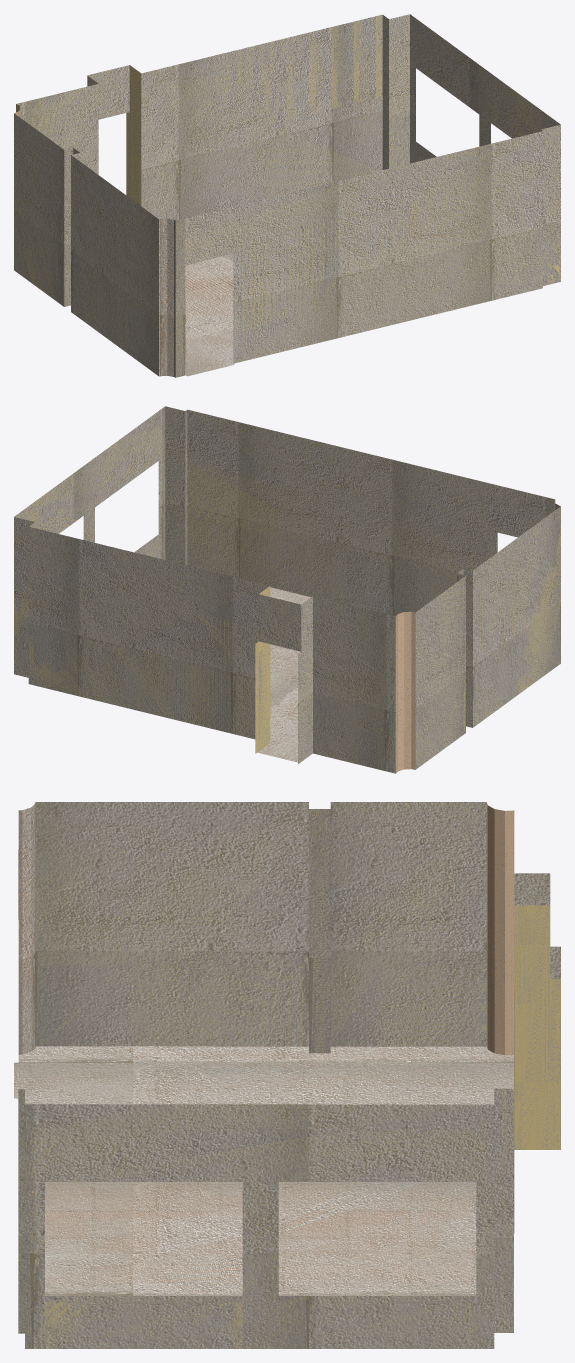
The model's file is LAB008.obj.
3 renders of one model, top to bottom at view 1: azimuth 30°, elevation 25°; view 2: azimuth 150°, elevation 25°; view 3: azimuth 270°, elevation 25°, orthographic. The views are drawn at different scales.
Visible parts, largest first — view 1: Mesh1 LAB008 Model; view 2: Mesh1 LAB008 Model; view 3: Mesh1 LAB008 Model.
Boxes of the visible parts, bbox=[...] form: Mesh1 LAB008 Model: bbox=[14, 14, 560, 377]; Mesh1 LAB008 Model: bbox=[14, 406, 560, 773]; Mesh1 LAB008 Model: bbox=[14, 802, 560, 1348].
Size of the model in its own units: 7.96 by 3 by 6.09.
6 materials, 2 textured.
